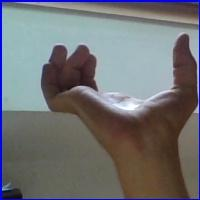B: (22, 29, 198, 154)
